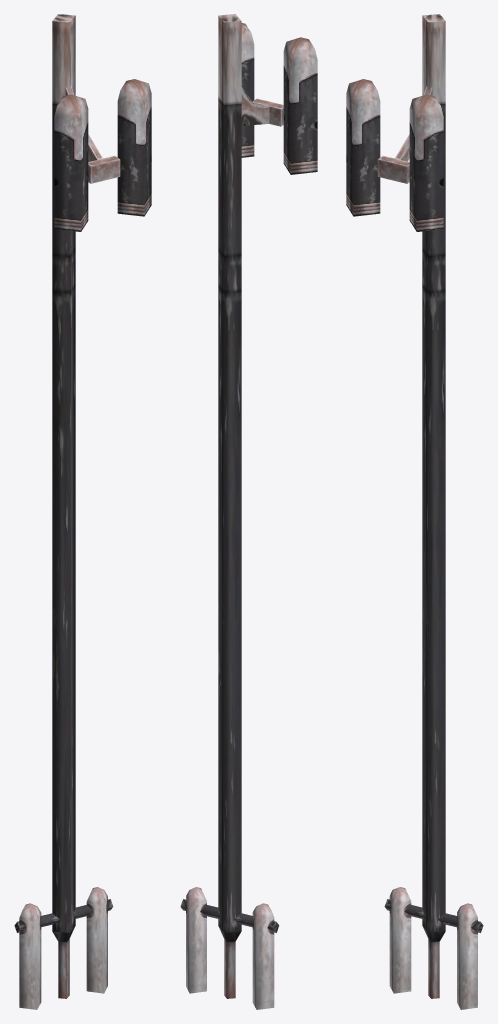
File: mun_all_imprv_streetlamp_lg_s01_l1.fbx
The picture shows the model from 3 angles, left to right: view 1: azimuth 30°, elevation 25°; view 2: azimuth 150°, elevation 25°; view 3: azimuth 330°, elevation 25°; orthographic projection.
Visible parts, largest first — view 1: mesh_node; view 2: mesh_node; view 3: mesh_node.
Boxes of the visible parts, <box> form: mesh_node: <box>14,14,151,1009</box>; mesh_node: <box>180,14,317,1009</box>; mesh_node: <box>346,14,483,1009</box>.
Bounding box in the file's own units: 0.418 × 4.02 × 0.4135.
2 materials, 2 textured.
